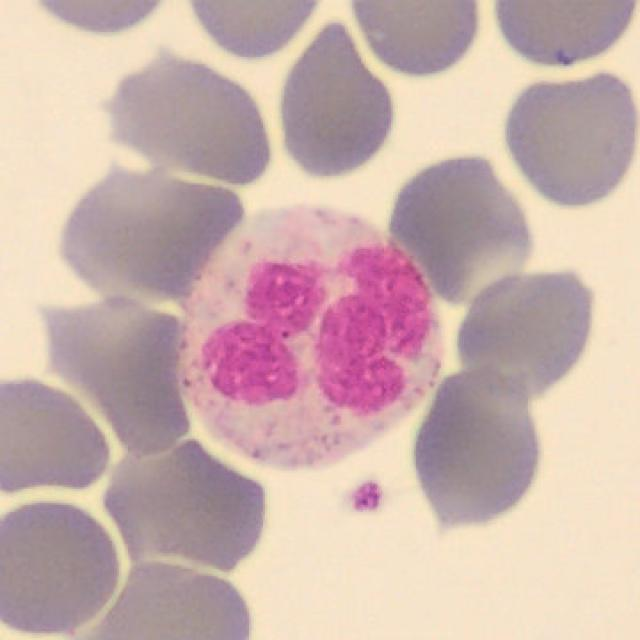Neutrofilo segmentado: (174, 206, 450, 475)
